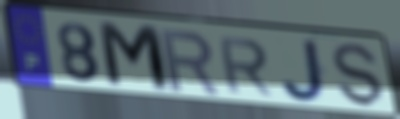8: (56, 21, 102, 85)
J: (278, 38, 331, 105)
M: (94, 19, 174, 96)
R: (157, 27, 222, 97), (216, 36, 276, 98)
S: (330, 42, 386, 110)
